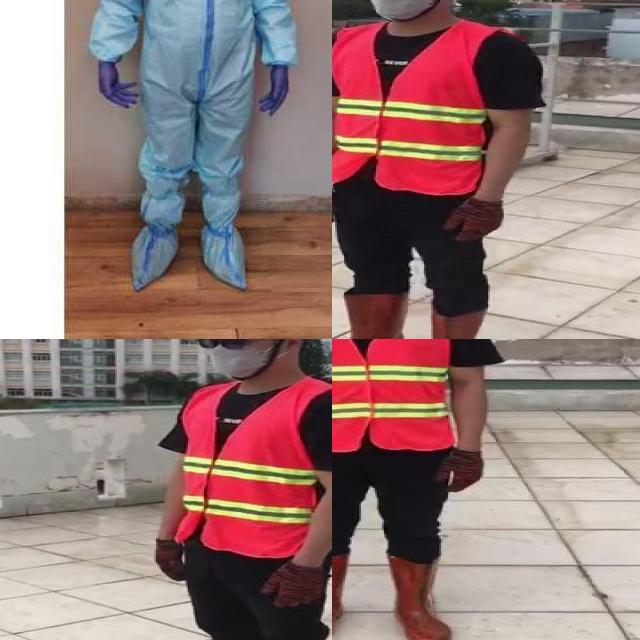BOOTS: (386, 555, 452, 640), (332, 293, 410, 339), (414, 309, 487, 339), (332, 555, 347, 640)
GLASS: (198, 339, 297, 351)
GLOVE: (261, 560, 328, 609), (447, 194, 504, 244), (434, 446, 486, 492), (155, 538, 188, 582)
Glove: (248, 50, 298, 117), (80, 56, 134, 118)
VEST: (332, 21, 494, 191), (180, 379, 332, 557), (332, 339, 459, 449)
